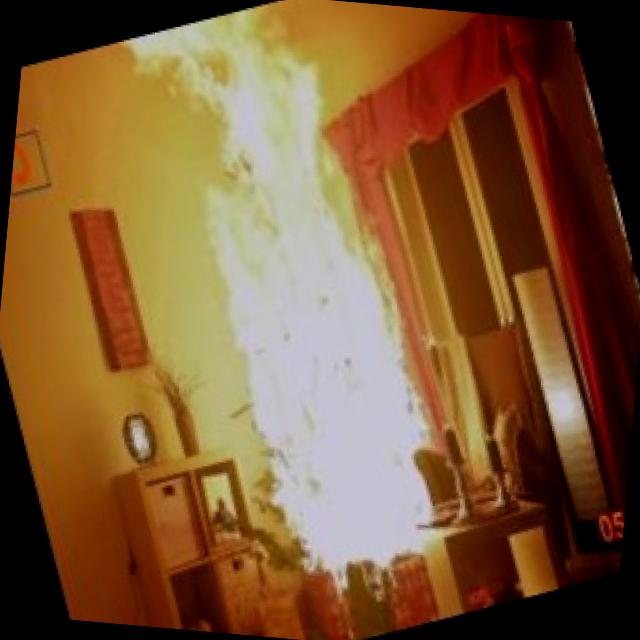fire: (45, 0, 528, 639)
